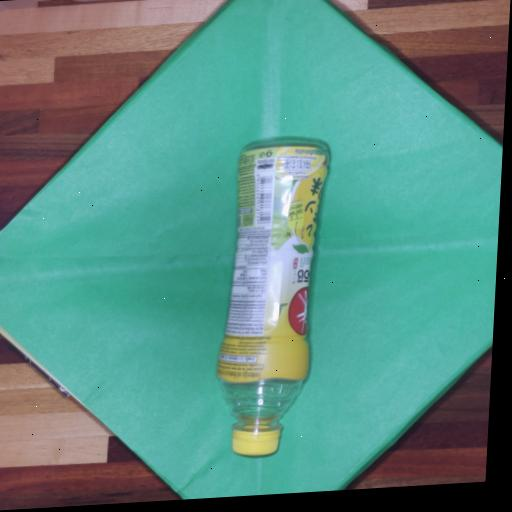bottle: (183, 124, 350, 480)
